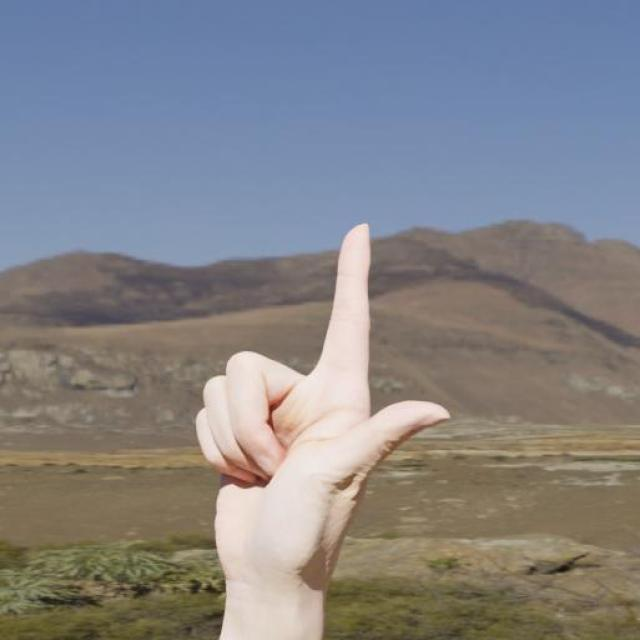L: (195, 224, 456, 556)
